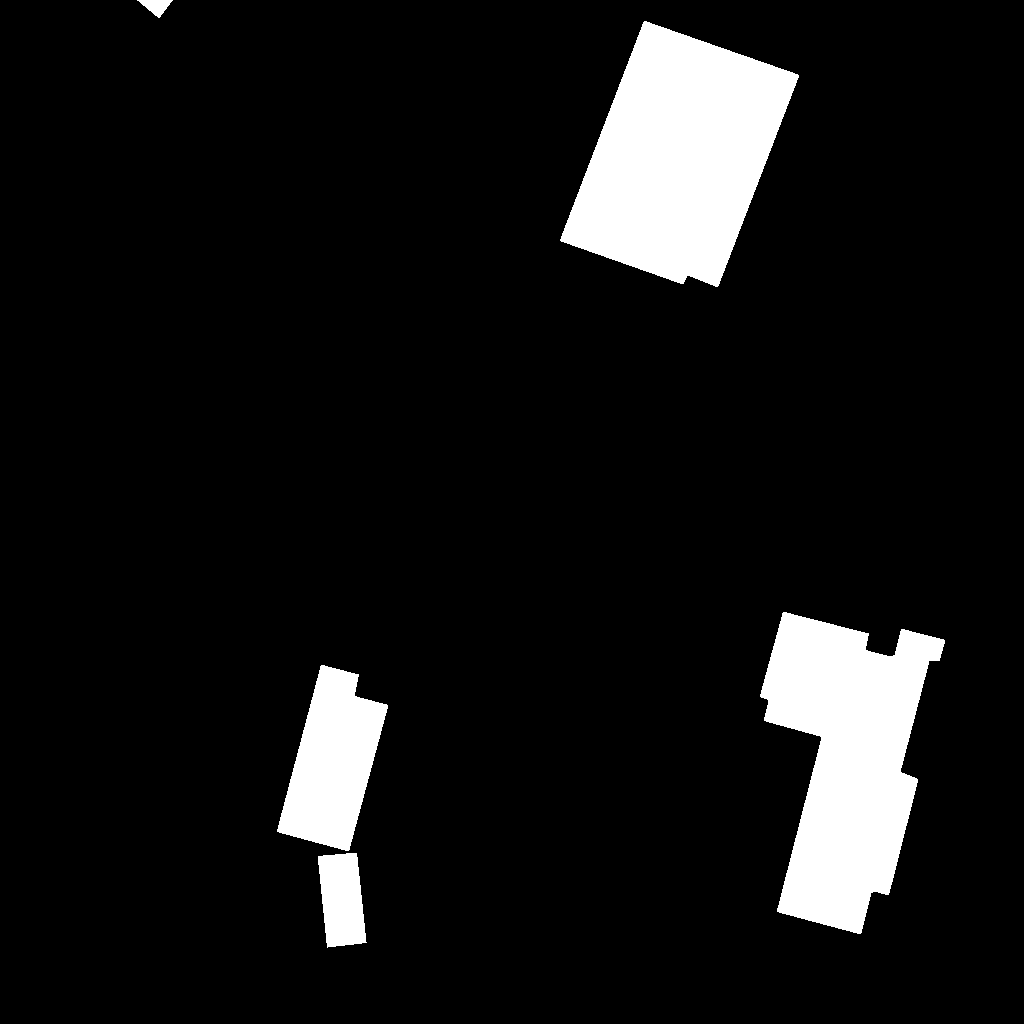building: (560, 21, 800, 288), (760, 612, 946, 935), (277, 665, 389, 852), (318, 853, 367, 948), (137, 0, 174, 19)
